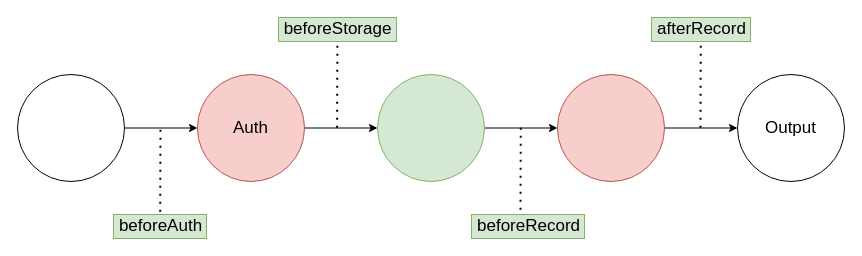
The diagram is 862 pixels wide and 256 high, and some of its shapes have lost their labels. The box of each missing label's shape, as (x1, y1, x2, y2) in pixels:
Input: (16, 74, 124, 182)
Record: (556, 74, 664, 182)
Storage: (376, 74, 484, 182)
